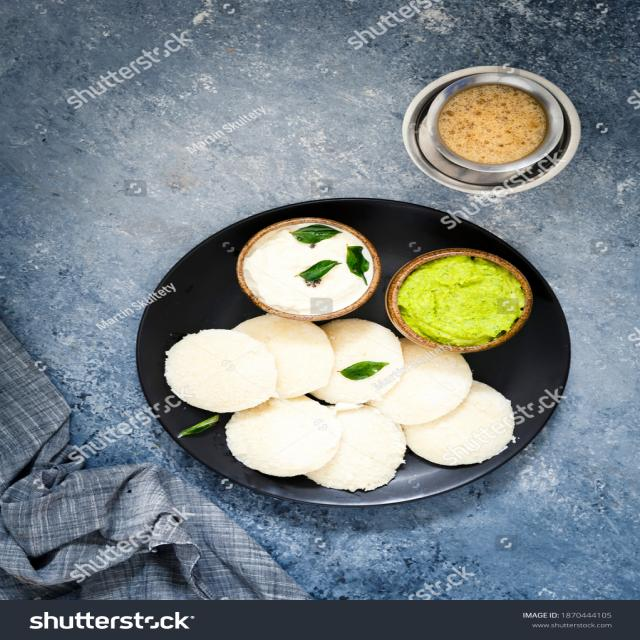IDLI: (163, 314, 517, 492)
